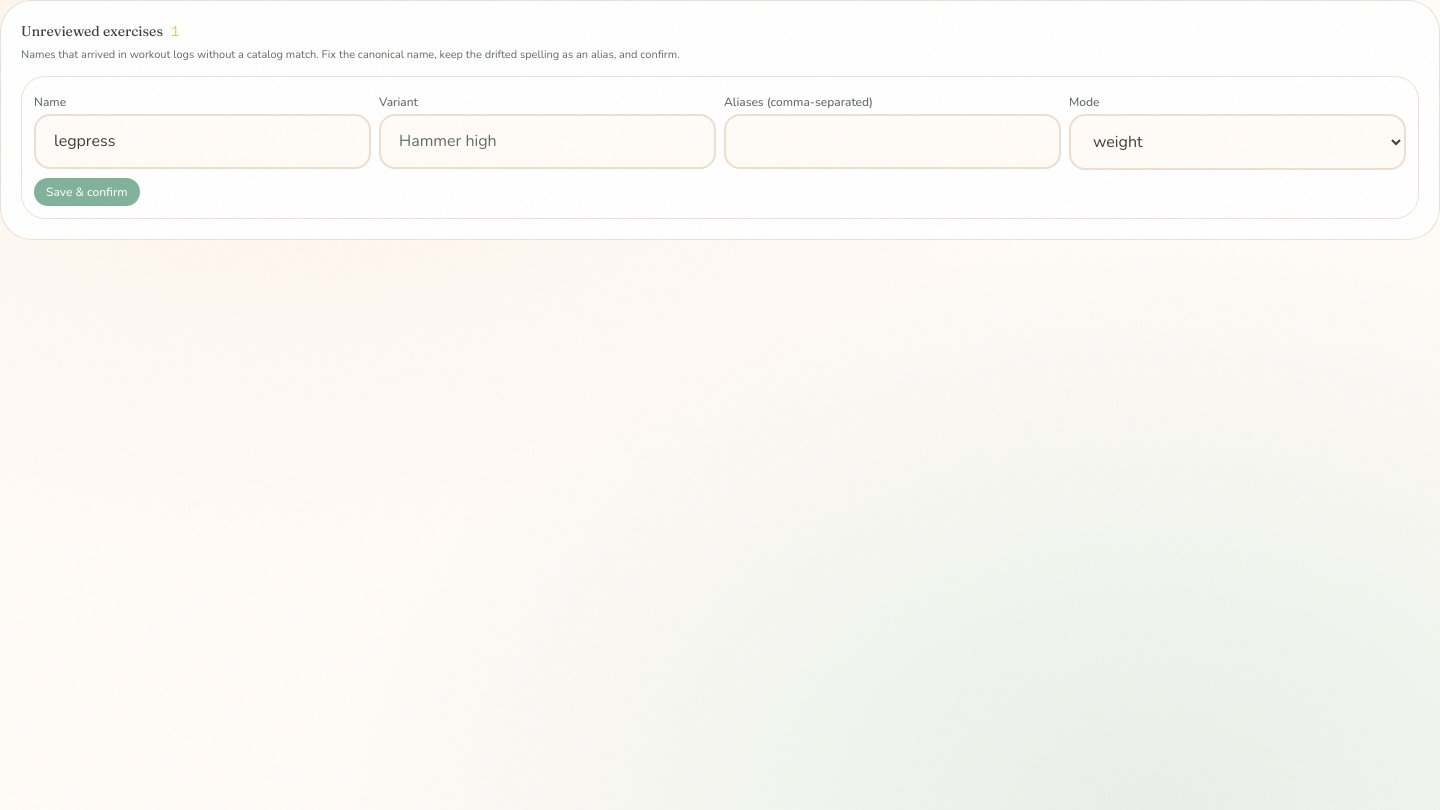
Test case: UnreviewedExercisesCard › surfaces resolution collisions inline
The width and height of the screenshot is (1440, 810).
Click the button "Save & confirm": click(87, 192) [34,178,140,206]
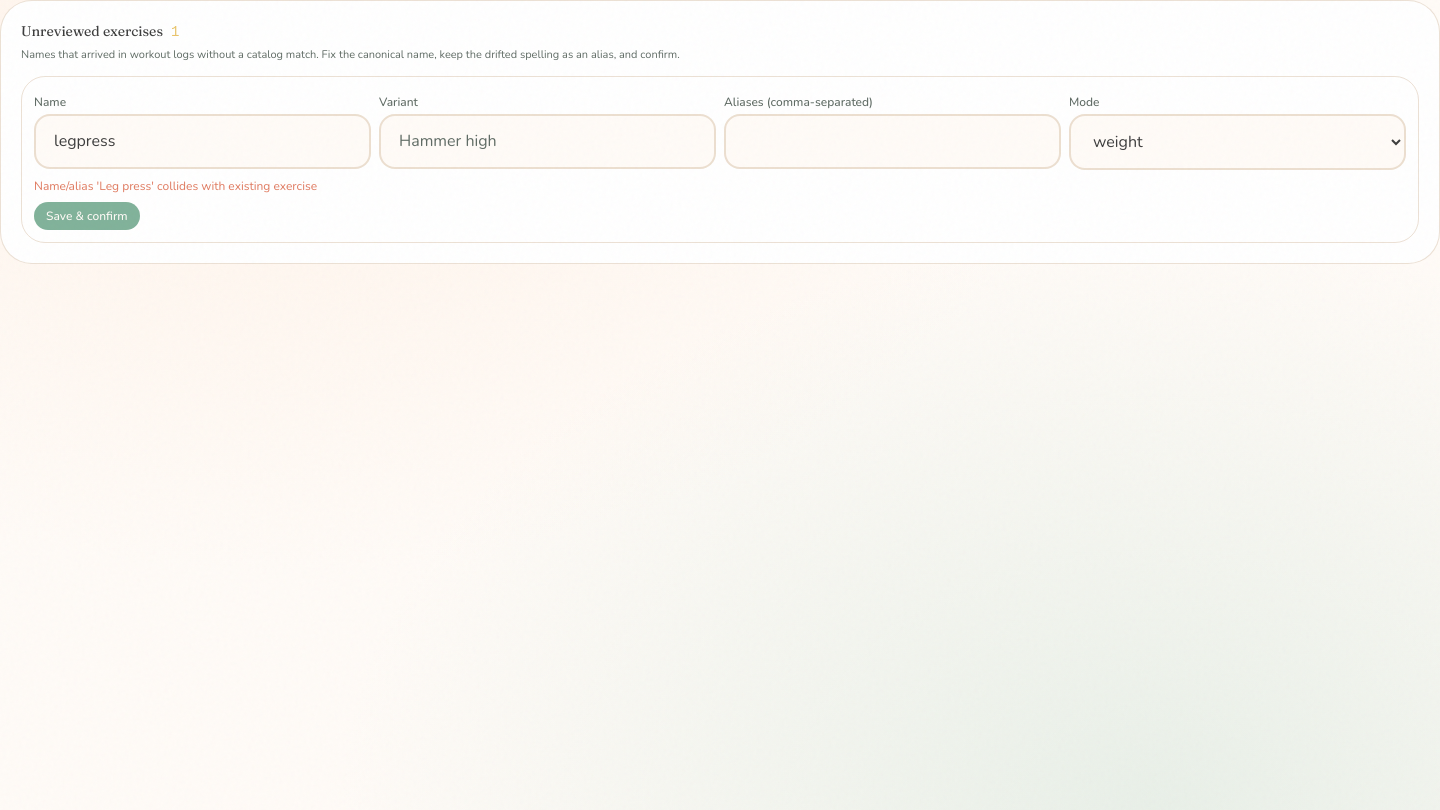
Expected: the message shows "collides", [34,178,317,194]
